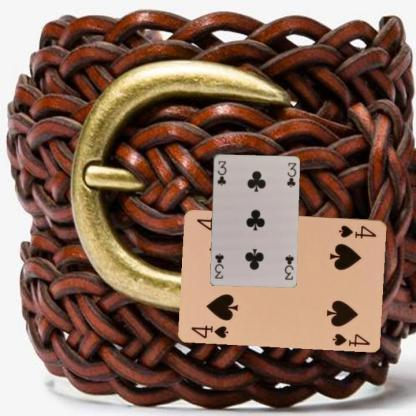3c: (214, 158, 228, 187), (282, 252, 295, 281)
4s: (336, 222, 378, 240), (189, 322, 231, 340)
